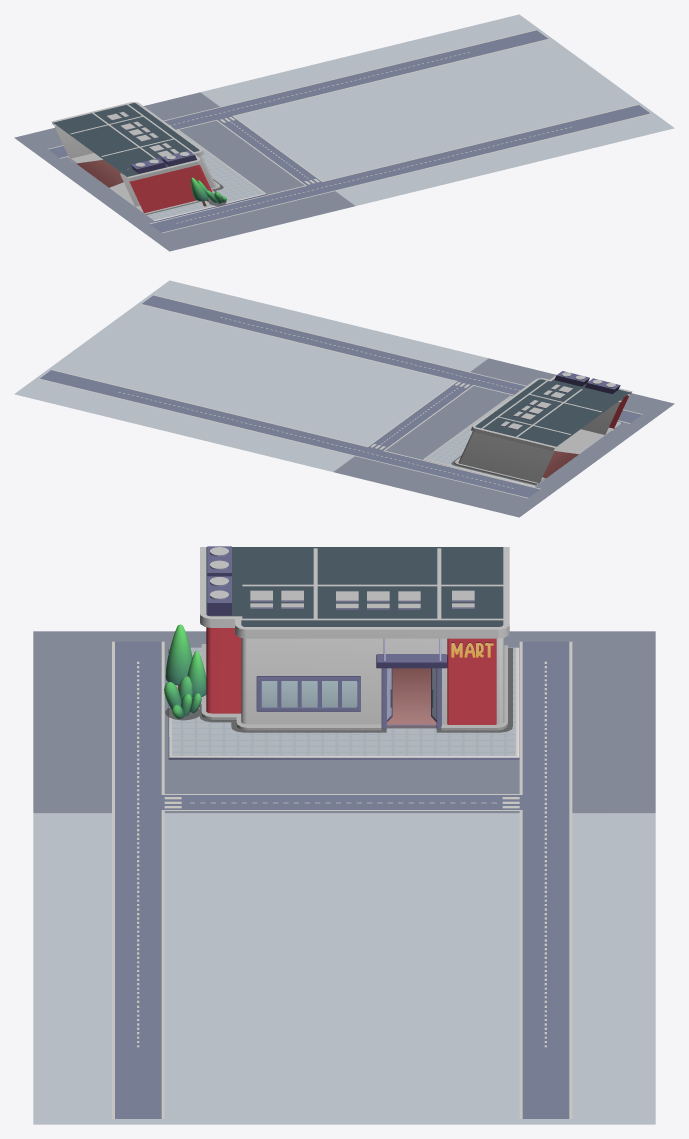
The model's file is map_ver_2.fbx.
The picture shows the model from 3 angles, top to bottom: view 1: azimuth 30°, elevation 25°; view 2: azimuth 150°, elevation 25°; view 3: azimuth 270°, elevation 25°; orthographic projection. The views are drawn at different scales.
Visible parts, largest first — view 1: Floor, road, wall, pavement1; view 2: Floor, road, wall, pavement1; view 3: Floor, wall, road, pavement1.
Part boxes in pixels (x1,y1,x2,y2): Floor: (14,14,674,251); road: (47,30,650,233); wall: (51,102,226,215); pavement1: (67,130,266,221); Floor: (14,280,674,517); road: (39,295,642,498); wall: (451,371,632,485); pavement1: (422,396,622,486); Floor: (33,631,655,1124); wall: (164,546,512,732); road: (112,641,572,1118); pavement1: (168,647,519,759).
Bounding box in the file's own units: 403 × 37.85 × 215.
